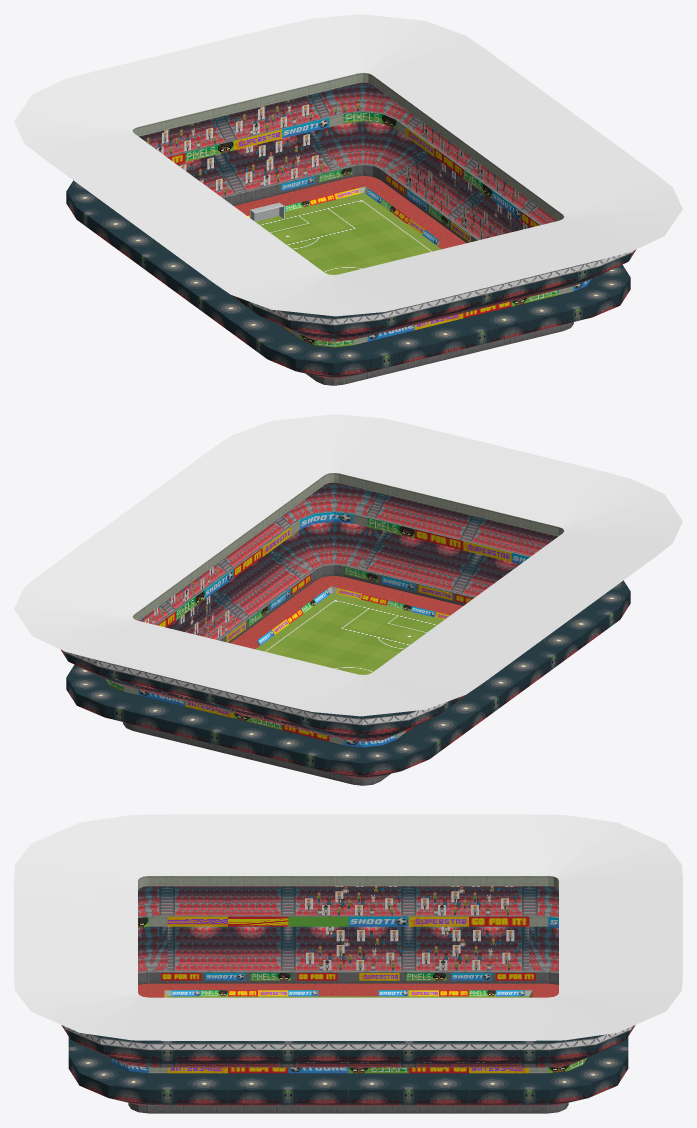
Rendered from Stadium.fbx.
The picture shows the model from 3 angles, top to bottom: view 1: azimuth 30°, elevation 25°; view 2: azimuth 150°, elevation 25°; view 3: azimuth 270°, elevation 25°; orthographic projection. The views are drawn at different scales.
Parts seen in each view (by area): view 1: Level00_Stadium, Level00_Crowd; view 2: Level00_Stadium, Level00_Crowd; view 3: Level00_Stadium, Level00_Crowd.
Part boxes in pixels (box(x1,y1,x2,y2)): Level00_Stadium: box(14, 14, 682, 385); Level00_Crowd: box(142, 97, 527, 239); Level00_Stadium: box(14, 414, 682, 785); Level00_Crowd: box(108, 566, 315, 732); Level00_Stadium: box(14, 814, 682, 1113); Level00_Crowd: box(305, 886, 518, 1062).
Size of the model in its own units: 10804 by 2689 by 13491.
21 materials, 19 textured.
